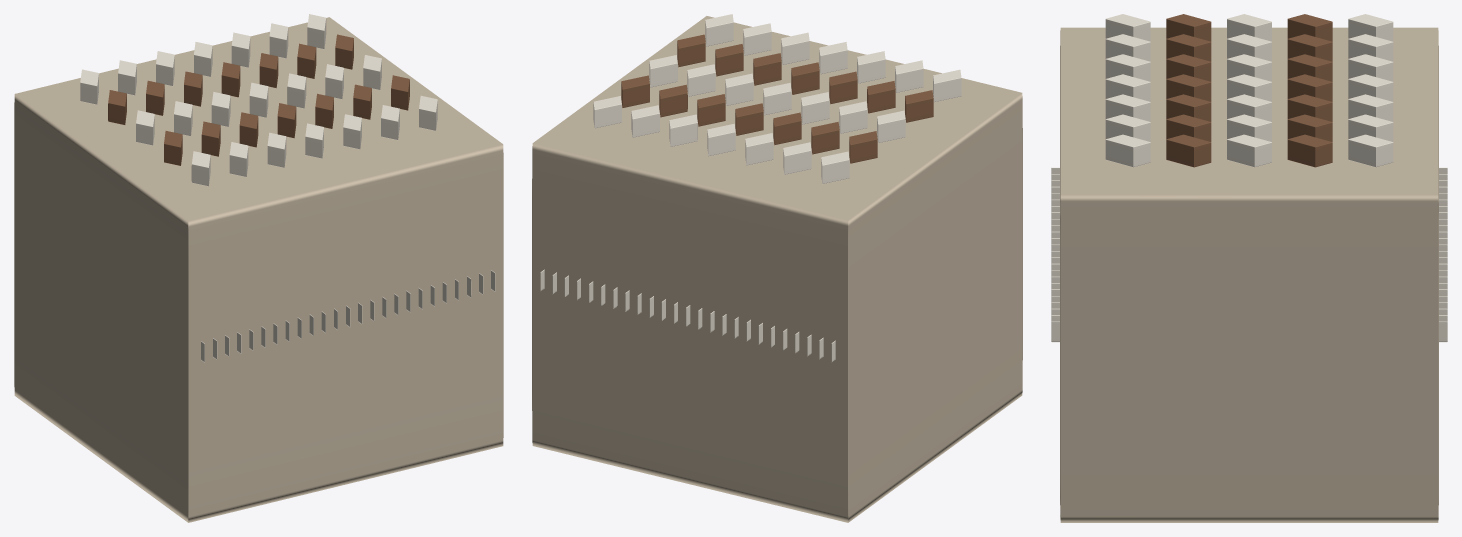
File: rug-15-2.glb
3 views of the same model, side by side, from view 1: azimuth 30°, elevation 25°; view 2: azimuth 150°, elevation 25°; view 3: azimuth 270°, elevation 25° (orthographic). The views are drawn at different scales.
Parts seen in each view (by area): view 1: woven-rug, upholstery (×2); view 2: woven-rug, upholstery (×2); view 3: woven-rug, upholstery (×2).
Boxes of the visible parts, <box> form: woven-rug: <box>14,17,503,522</box>; upholstery (×2): <box>80,14,495,362</box>; woven-rug: <box>532,16,1022,522</box>; upholstery (×2): <box>540,14,961,361</box>; woven-rug: <box>1060,27,1438,522</box>; upholstery (×2): <box>1051,14,1447,342</box>.
Bounding box in the file's own units: 1 × 1 × 1.
